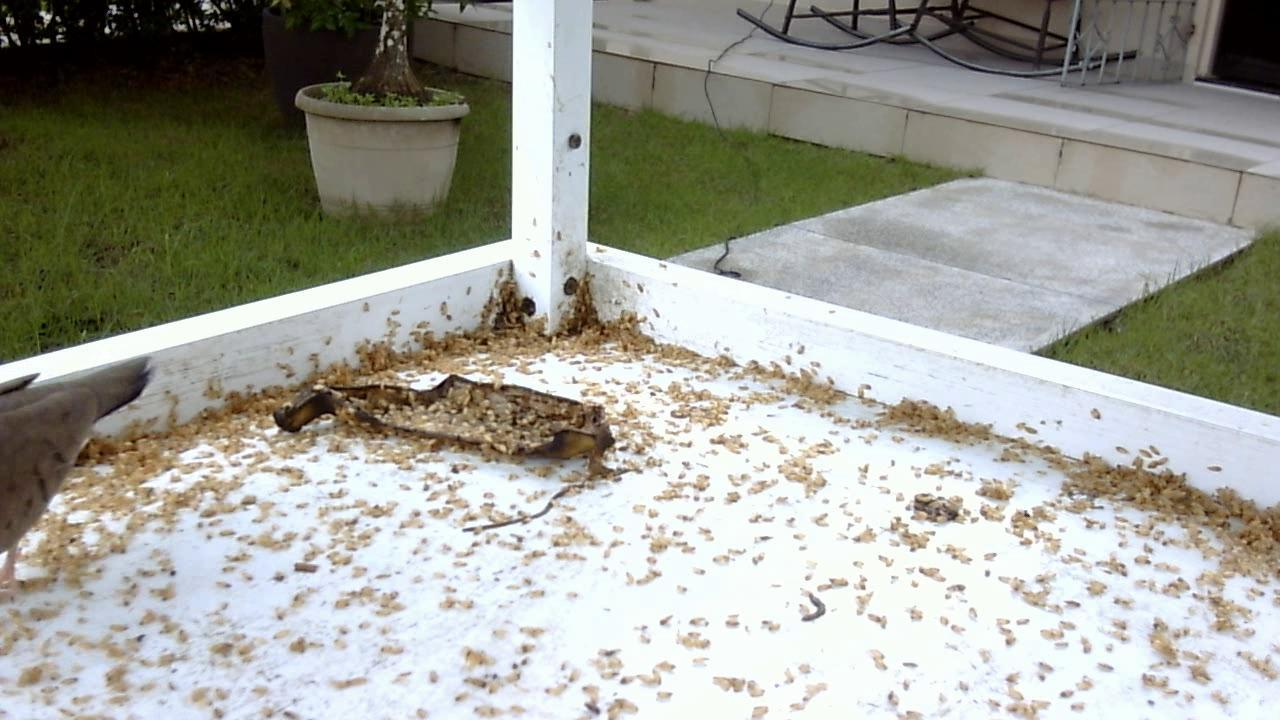rolinha: (1, 357, 163, 606)
